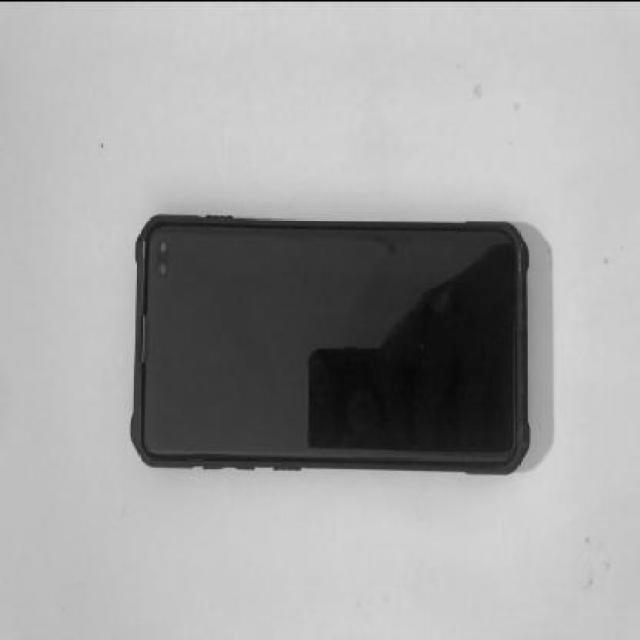fake: (128, 209, 532, 474)
